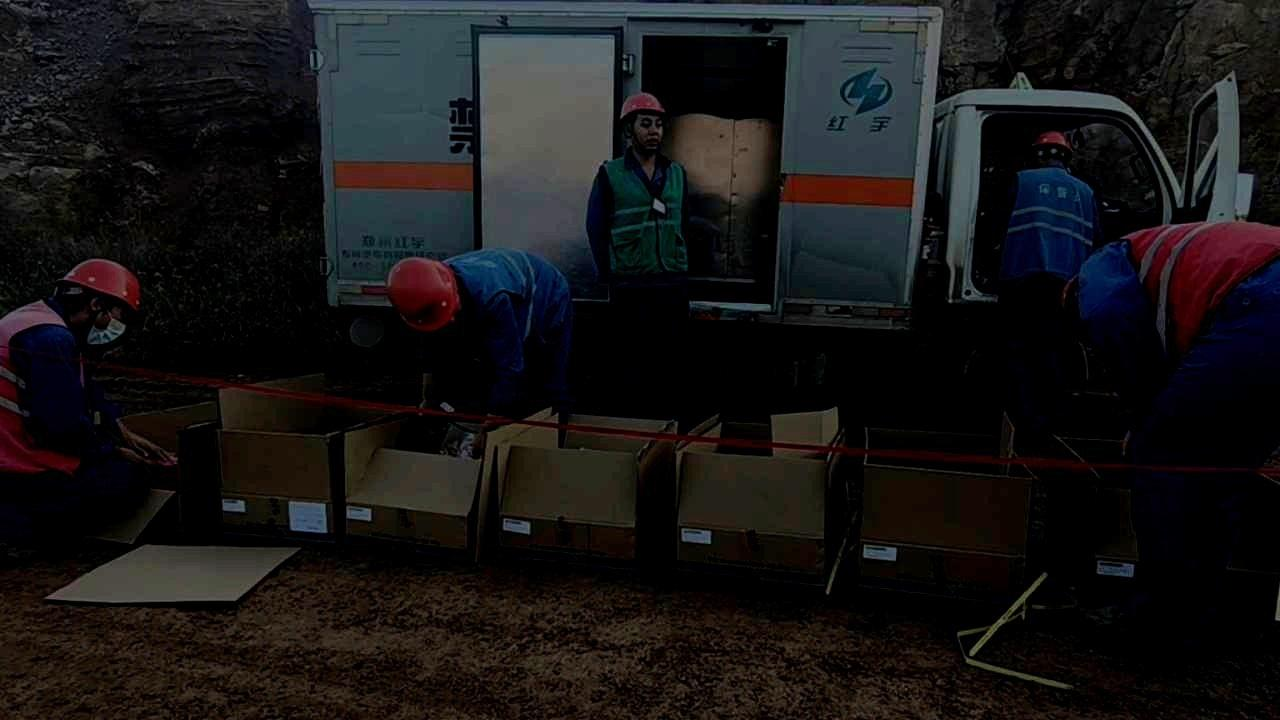helmet: (53, 258, 140, 345), (384, 256, 460, 330), (619, 92, 665, 152), (1031, 130, 1073, 164)
